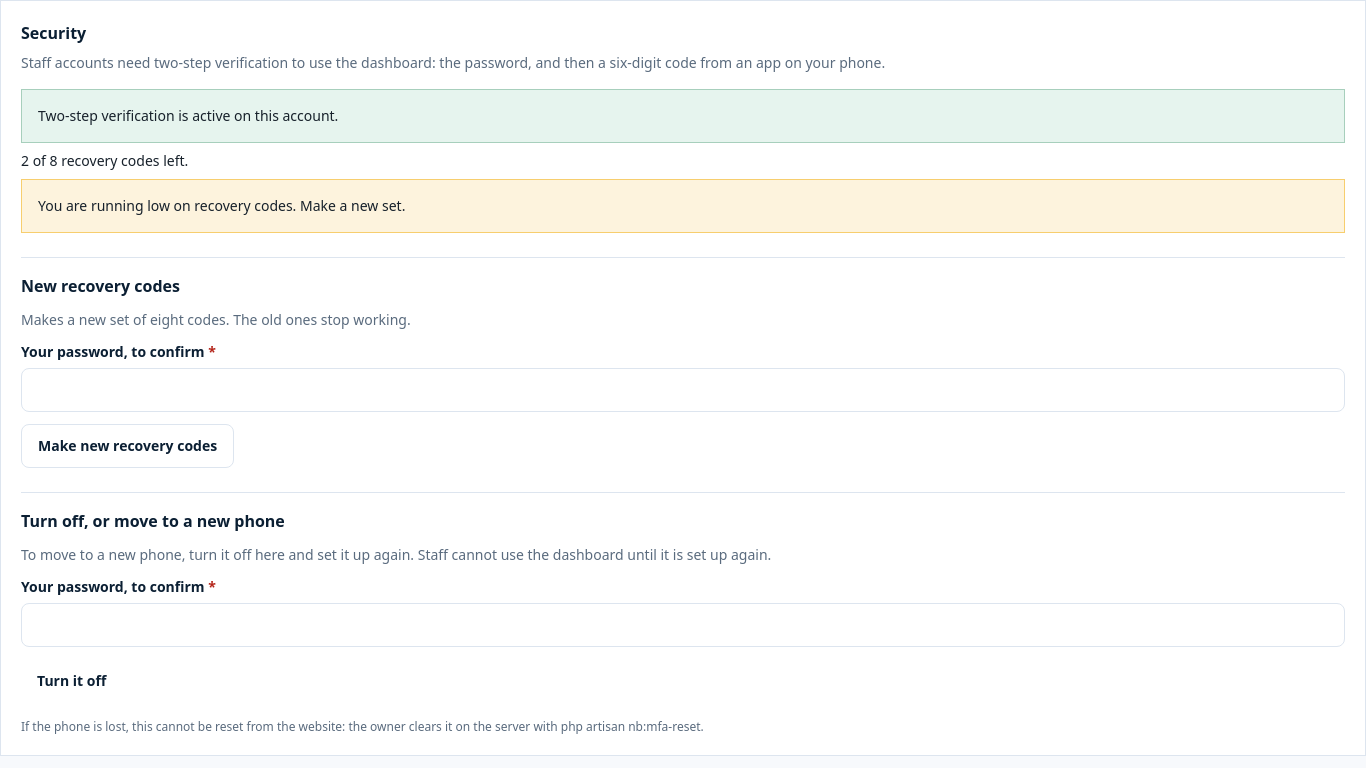
TwoFactorSetup › once it is on: says so, counts the codes left and makes a new set with the password
The image size is (1366, 768).
Check: the text "Two-step verification is active on this account." is shown, box [38, 106, 338, 125]
Check: the text "2 of 8 recovery codes left." is shown, box [21, 151, 188, 170]
In the 1st password field labelled "Your password, to confirm *": (683, 390) [21, 368, 1345, 412], type "secret-password"
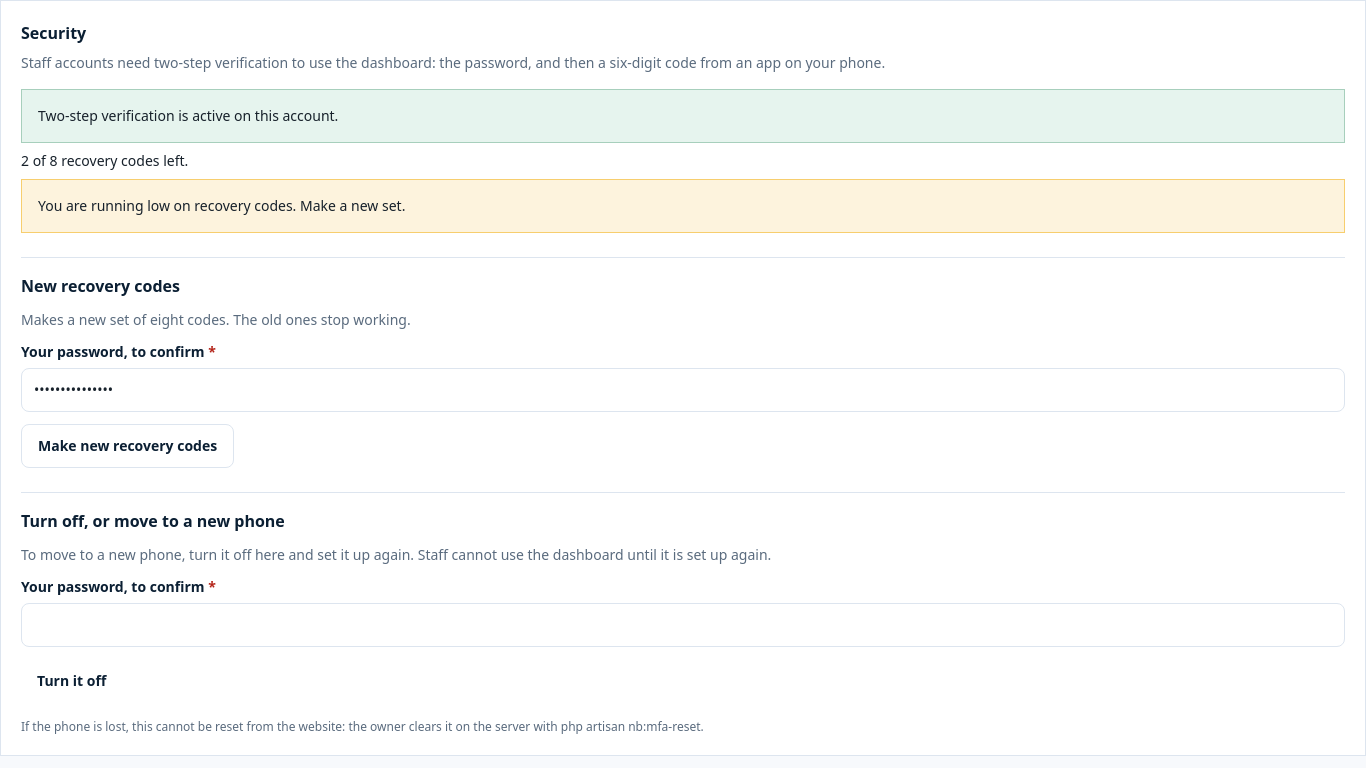
Click the button "Make new recovery codes": (128, 446) [21, 424, 234, 468]
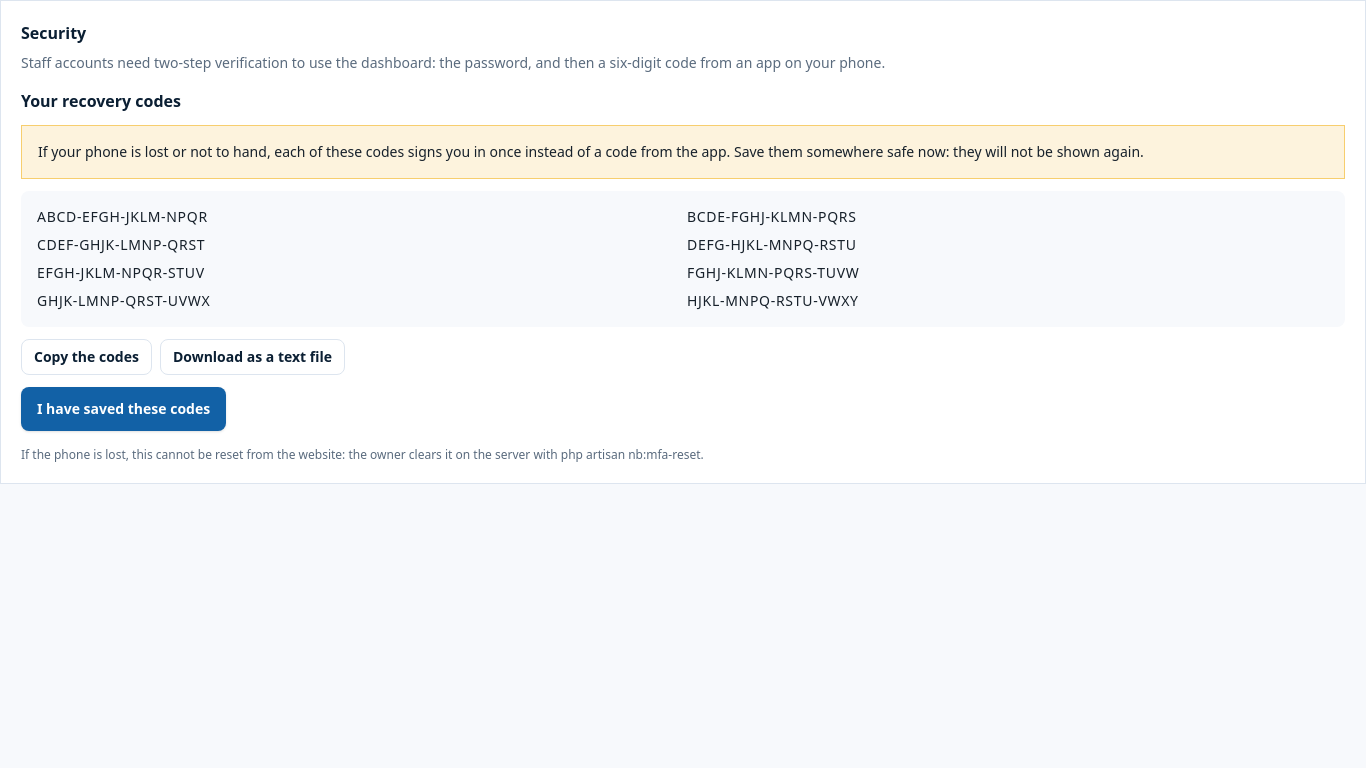
Check: the list item "ABCD-EFGH-JKLM-NPQR" is shown, box [37, 207, 208, 226]
